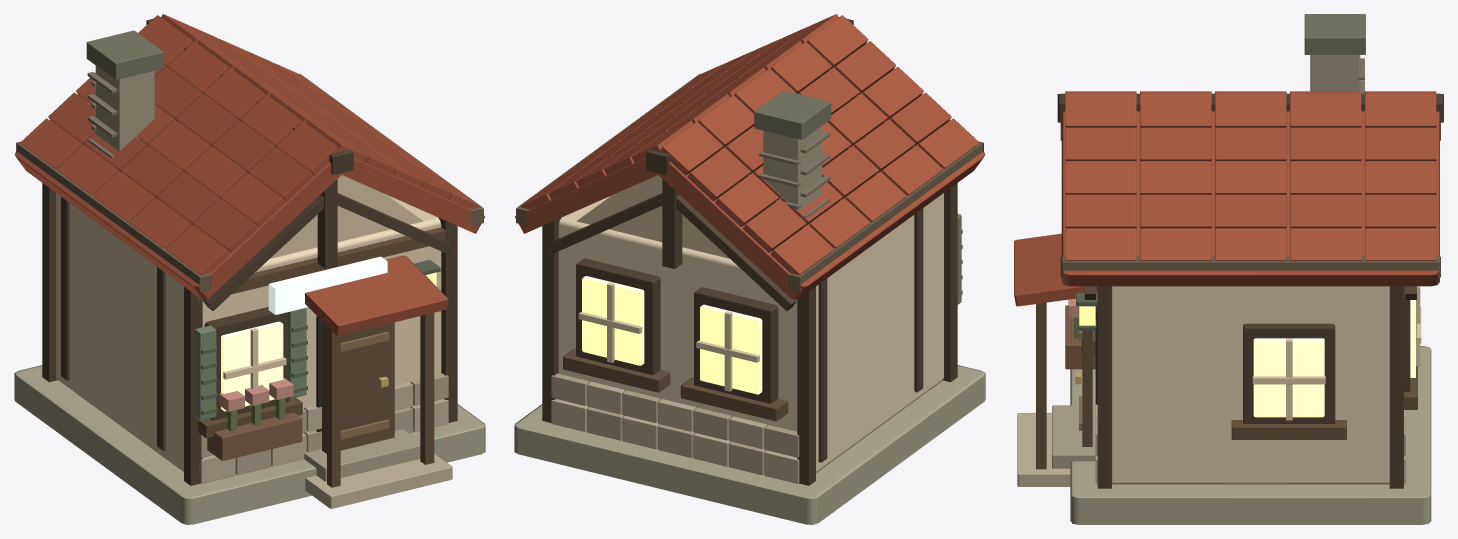
File: workshop-0-0.glb
3 renders of one model, left to right at view 1: azimuth 30°, elevation 25°; view 2: azimuth 150°, elevation 25°; view 3: azimuth 270°, elevation 25°, orthographic. The views are drawn at different scales.
Parts seen in each view (by area): view 1: workshop-0-0, door-hinge; view 2: workshop-0-0; view 3: workshop-0-0, door-hinge.
Boxes of the visible parts, <box> form: workshop-0-0: <box>14,14,485,524</box>; door-hinge: <box>322,321,394,453</box>; workshop-0-0: <box>514,14,985,524</box>; workshop-0-0: <box>1014,14,1443,524</box>; door-hinge: <box>1075,306,1092,446</box>.
Bounding box in the file's own units: 1.88 × 2.19 × 2.24.
